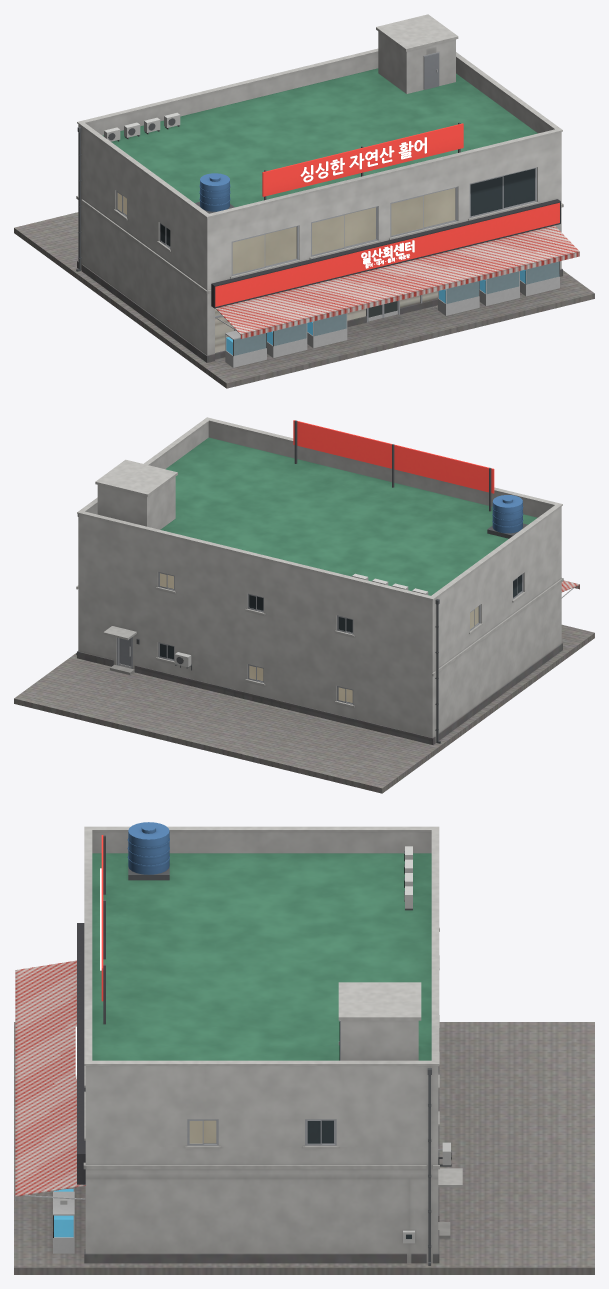
The model's file is IlsanHoetjip02_LOD1.fbx.
The picture shows the model from 3 angles, top to bottom: view 1: azimuth 30°, elevation 25°; view 2: azimuth 150°, elevation 25°; view 3: azimuth 270°, elevation 25°; orthographic projection. The views are drawn at different scales.
Parts seen in each view (by area): view 1: IlsanHoetjip02_LOD1; view 2: IlsanHoetjip02_LOD1; view 3: IlsanHoetjip02_LOD1.
Part boxes in pixels (x1=…): IlsanHoetjip02_LOD1: x1=14, y1=14, x2=594, y2=388; IlsanHoetjip02_LOD1: x1=14, y1=417, x2=594, y2=793; IlsanHoetjip02_LOD1: x1=14, y1=822, x2=594, y2=1274.
Bounding box in the file's own units: 23.9 × 11.15 × 23.9.
1 material, 1 textured.
